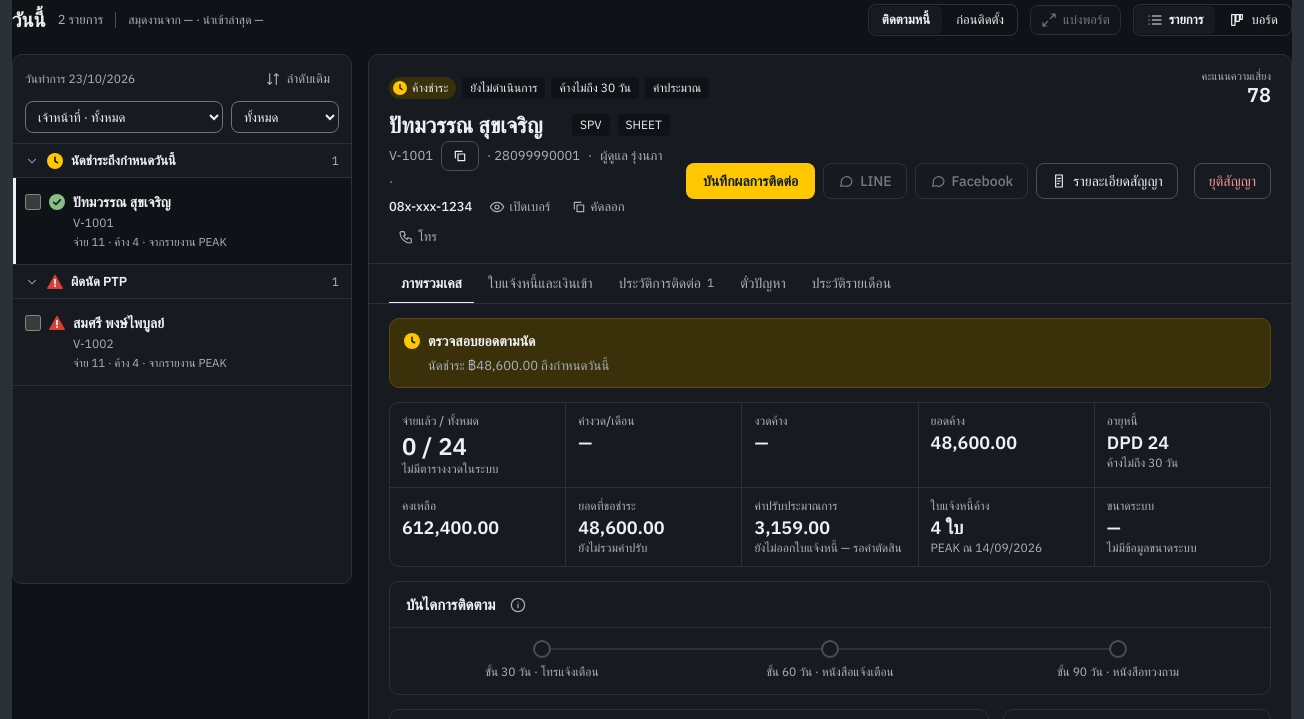
Test case: Today › loads the record for the selected row and shows the ladder path
Click the button "สมศรี พงษ์ไพบูลย์ V-1002 จ่าย 11 · ค้าง 4 · จากรายงาน PEAK".
click(119, 323)  # box [49,313,339,371]
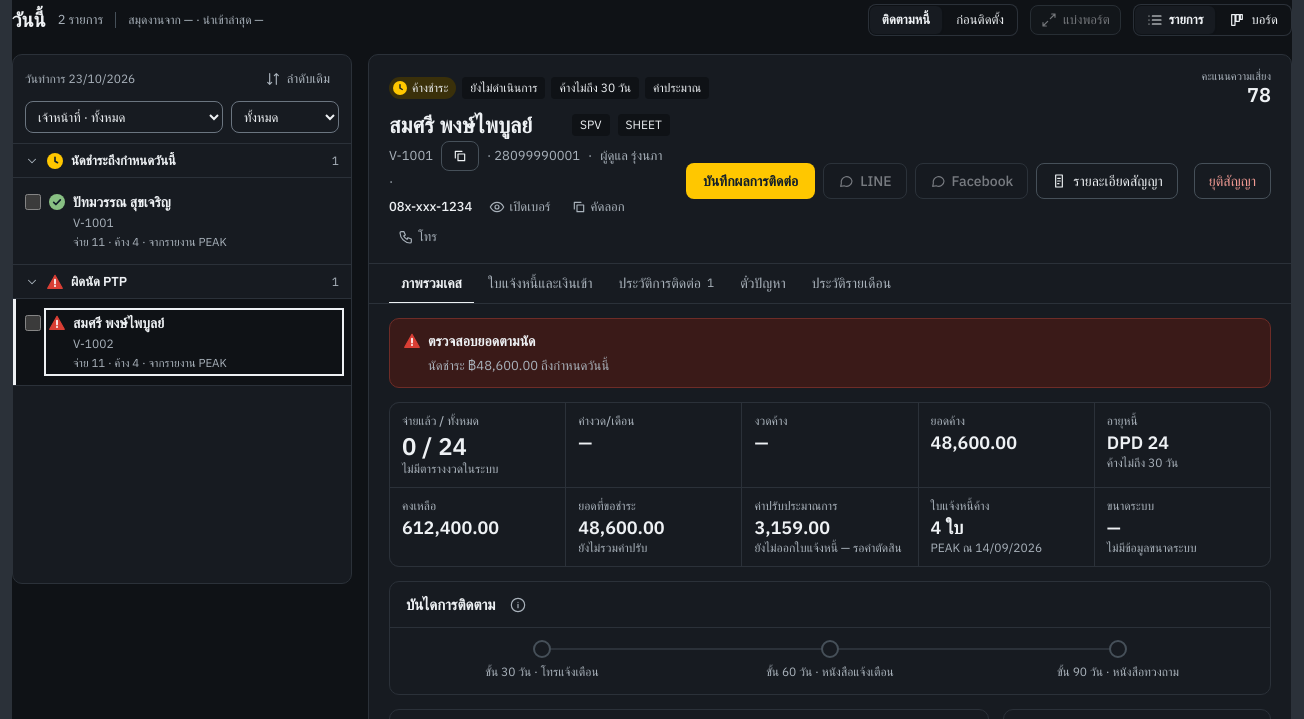
expect the text "ขั้น 30 วัน · โทรแจ้งเตือน" is shown: met, box [477,664,607,680]
expect the heading "สมศรี พงษ์ไพบูลย์" is shown: met, box [389,111,532,139]
